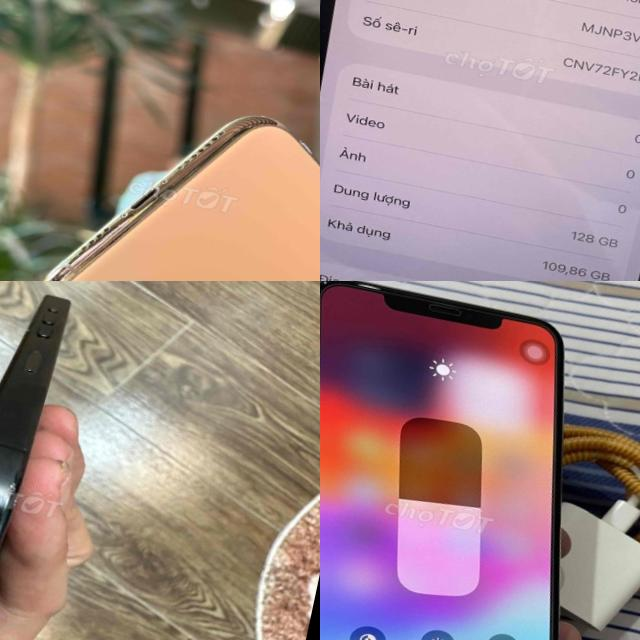gen_11: (320, 281, 640, 640), (0, 70, 320, 281)
gen_12_13: (320, 0, 640, 281)
gen_15: (0, 281, 77, 640)
